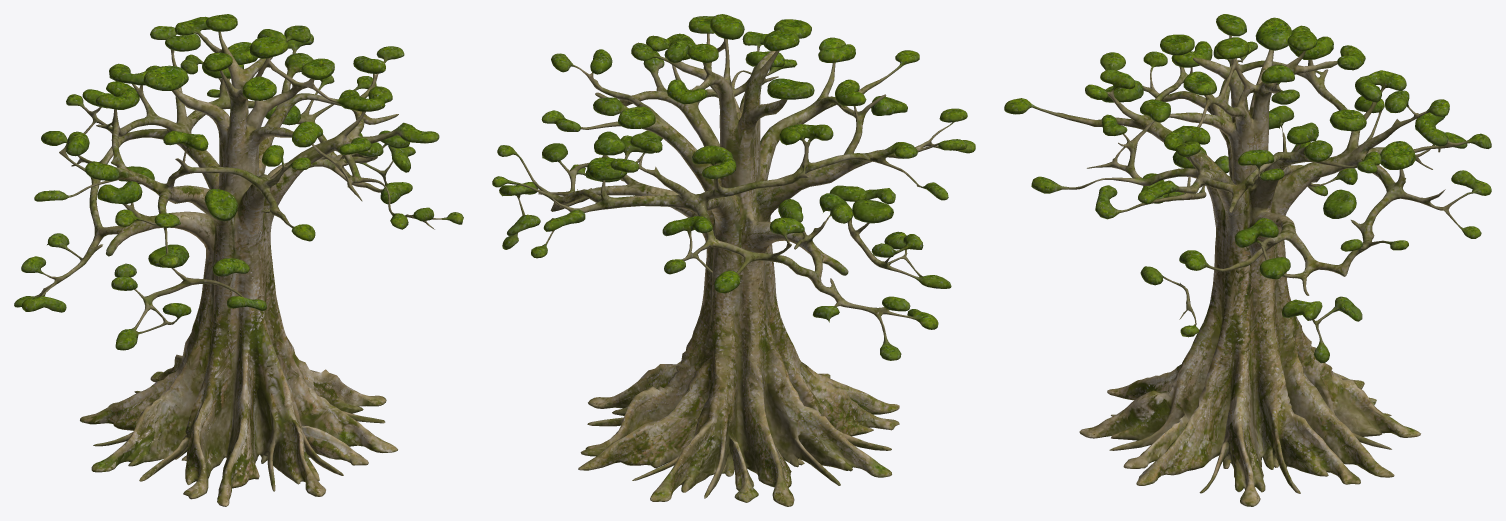
Rendered from VEG_CeibaTropical_01_LOD0.fbx.
3 views of the same model, side by side, from view 1: azimuth 30°, elevation 25°; view 2: azimuth 150°, elevation 25°; view 3: azimuth 270°, elevation 25° (orthographic). The views are drawn at different scales.
Parts seen in each view (by area): view 1: VEG_CeibaTropical_01_Mesh000; view 2: VEG_CeibaTropical_01_Mesh000; view 3: VEG_CeibaTropical_01_Mesh000.
Boxes of the visible parts, x1,y1,x2,y2 form: VEG_CeibaTropical_01_Mesh000: (14, 14, 463, 506); VEG_CeibaTropical_01_Mesh000: (492, 14, 975, 506); VEG_CeibaTropical_01_Mesh000: (1004, 14, 1491, 506).
Bounding box in the file's own units: 23.65 × 22 × 24.05.
